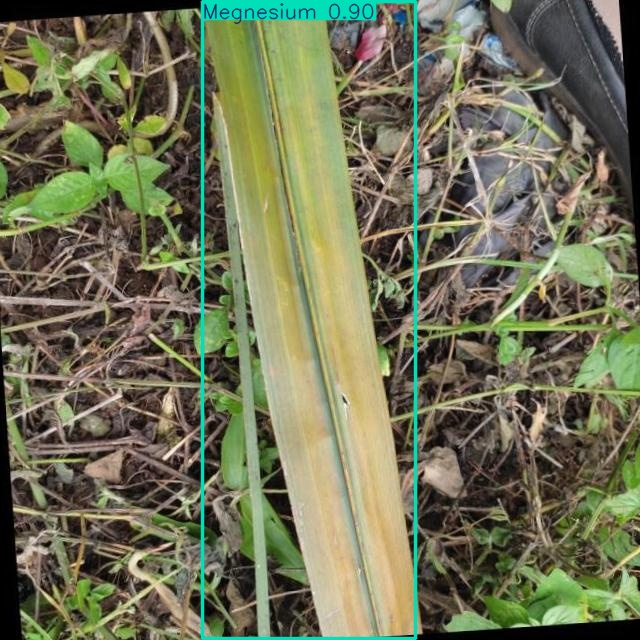Megnesium: (203, 2, 416, 638)
